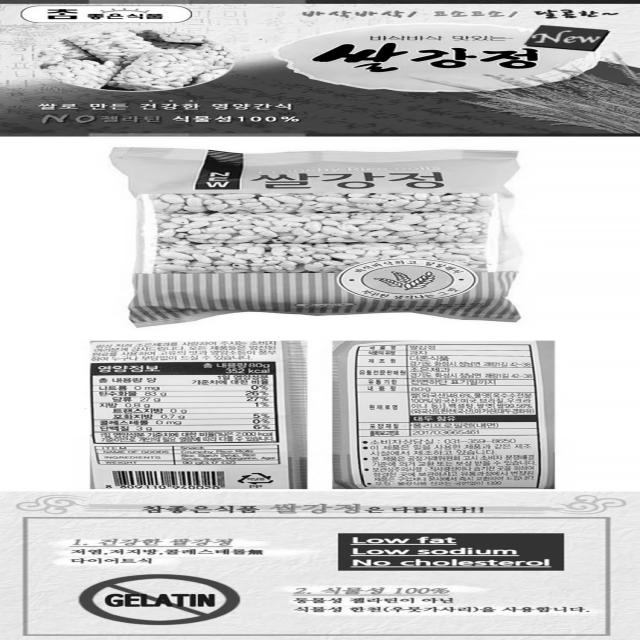Nutrition Label: (80, 359, 291, 445)
